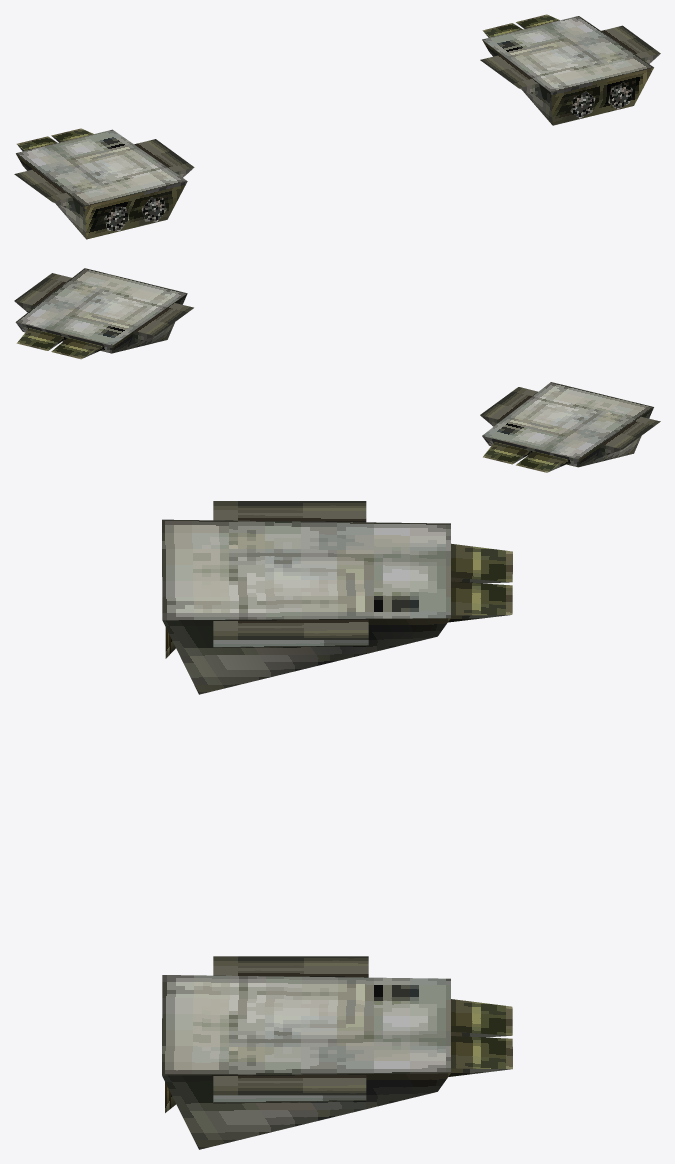
The model's file is z95_missile_pod_s01_l3.fbx.
3 renders of one model, top to bottom at view 1: azimuth 30°, elevation 25°; view 2: azimuth 150°, elevation 25°; view 3: azimuth 270°, elevation 25°, orthographic. The views are drawn at different scales.
Visible parts, largest first — view 1: mesh_node; view 2: mesh_node; view 3: mesh_node.
Boxes of the visible parts, left/top/right/bottom form: mesh_node: left=14, top=14, right=660, bottom=239; mesh_node: left=14, top=268, right=660, bottom=472; mesh_node: left=162, top=501, right=512, bottom=1149.
Bounding box in the file's own units: 14.38 × 0.9602 × 3.59.
